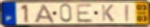0: (59, 3, 74, 24)
1: (20, 4, 30, 24)
A: (34, 4, 56, 24)
E: (75, 4, 94, 23)
I: (124, 4, 130, 23)
K: (101, 4, 116, 23)
